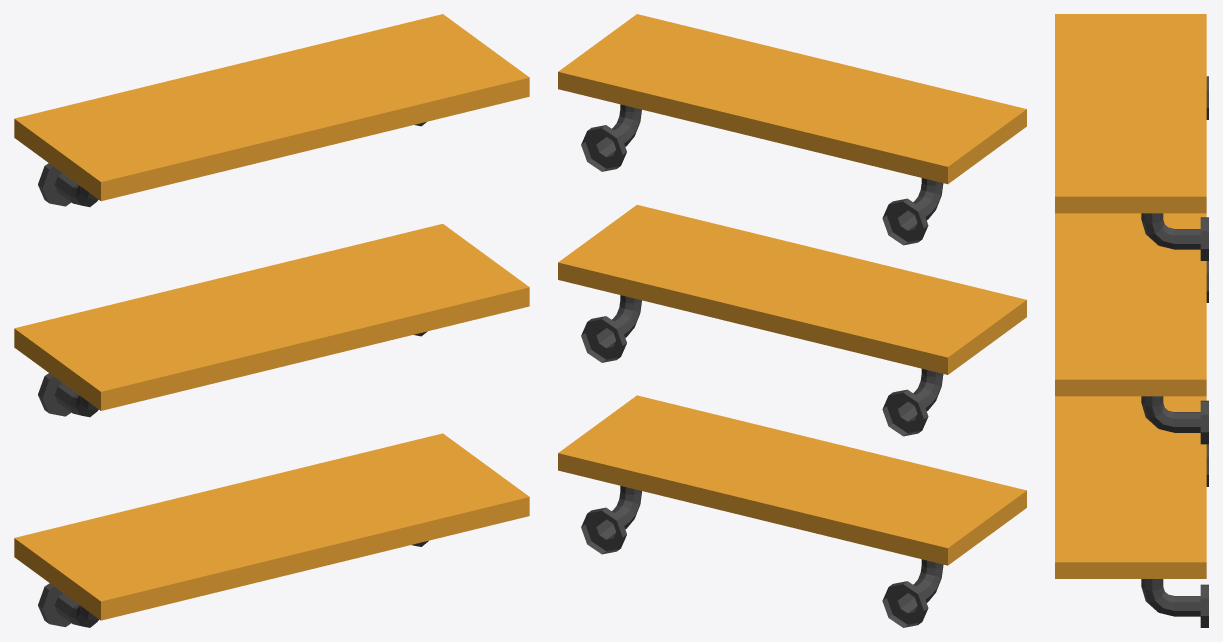
Rendered from MuebleCocina_SoportePared.fbx.
3 renders of one model, left to right at view 1: azimuth 30°, elevation 25°; view 2: azimuth 150°, elevation 25°; view 3: azimuth 270°, elevation 25°, orthographic. The views are drawn at different scales.
Parts seen in each view (by area): view 1: MuebleCocina_SoportePared; view 2: MuebleCocina_SoportePared; view 3: MuebleCocina_SoportePared.
Part boxes in pixels (left/top/right/bottom): MuebleCocina_SoportePared: left=14, top=14, right=529, bottom=627; MuebleCocina_SoportePared: left=558, top=14, right=1026, bottom=627; MuebleCocina_SoportePared: left=1055, top=14, right=1208, bottom=627.
Bounding box in the file's own units: 123 × 142 × 43.74.
